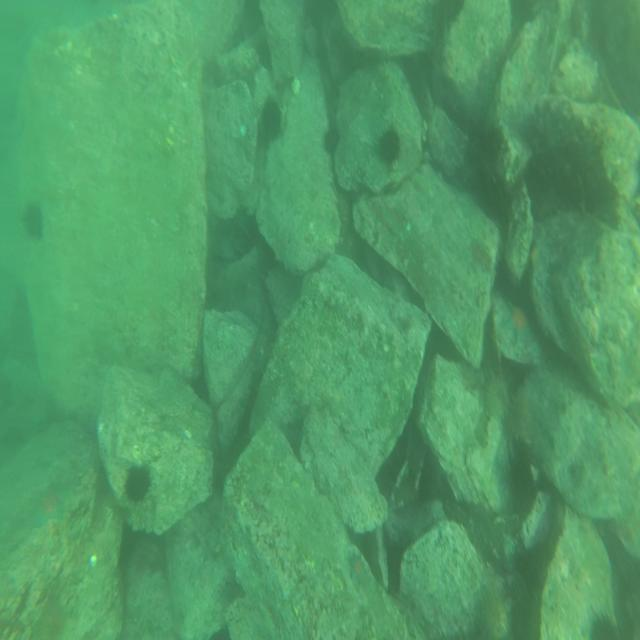echinus: (478, 591, 512, 640), (122, 463, 150, 503), (588, 607, 621, 640), (260, 94, 283, 141), (18, 202, 46, 235), (378, 129, 404, 162), (323, 124, 342, 155)
starfish: (33, 482, 71, 529), (501, 300, 534, 350), (348, 554, 372, 584)
